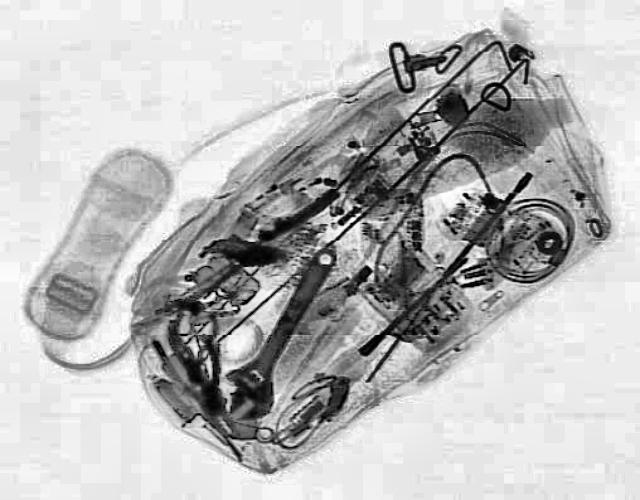Pliers: (158, 313, 240, 419)
Wrench: (202, 239, 358, 425)
